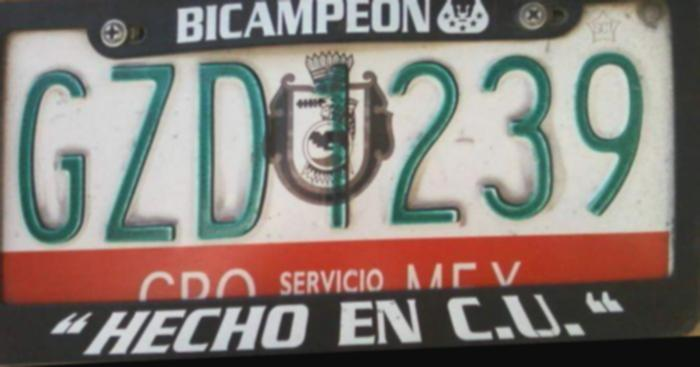License_Plate: (6, 0, 686, 323)
